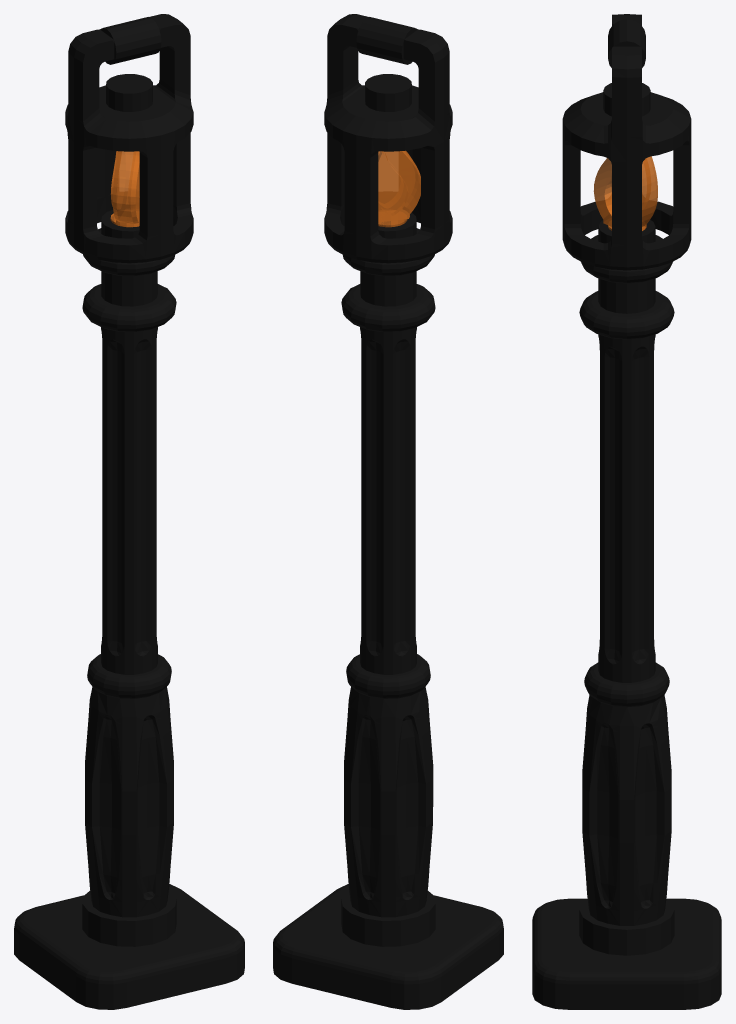
Rendered from Lamp1.fbx.
3 views of the same model, side by side, from view 1: azimuth 30°, elevation 25°; view 2: azimuth 150°, elevation 25°; view 3: azimuth 270°, elevation 25° (orthographic).
Parts seen in each view (by area): view 1: Part.3; view 2: Part.3; view 3: Part.3.
Boxes of the visible parts, left/top/right/bottom form: Part.3: left=14, top=14, right=244, bottom=1009; Part.3: left=273, top=14, right=503, bottom=1009; Part.3: left=532, top=14, right=721, bottom=1009.
Size of the model in its own units: 1592 by 8718 by 1592.
